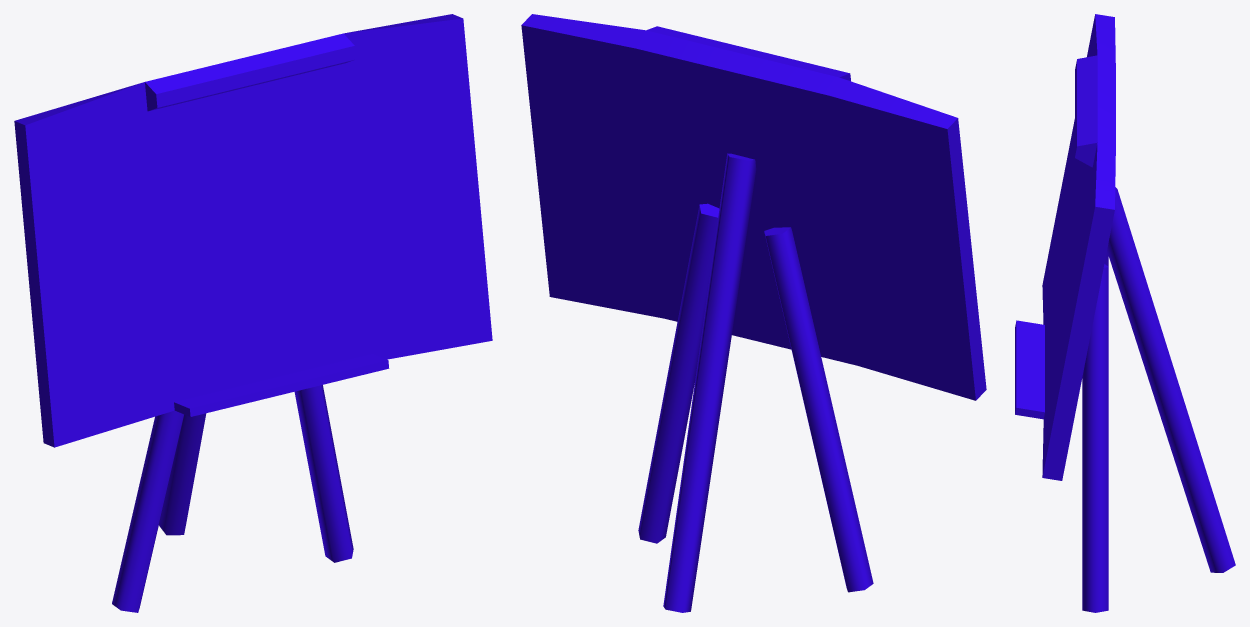
Rendered from office_pack_whiteboard_onLegs_2_meshCollider.fbx.
3 renders of one model, left to right at view 1: azimuth 30°, elevation 25°; view 2: azimuth 150°, elevation 25°; view 3: azimuth 270°, elevation 25°, orthographic. The views are drawn at different scales.
Parts seen in each view (by area): view 1: office_pack_whiteboard_onLegs_2_meshCollider; view 2: office_pack_whiteboard_onLegs_2_meshCollider; view 3: office_pack_whiteboard_onLegs_2_meshCollider.
Boxes of the visible parts, bbox=[...] form: office_pack_whiteboard_onLegs_2_meshCollider: bbox=[14, 14, 492, 612]; office_pack_whiteboard_onLegs_2_meshCollider: bbox=[521, 14, 986, 612]; office_pack_whiteboard_onLegs_2_meshCollider: bbox=[1015, 14, 1235, 612].
Size of the model in its own units: 91 by 104 by 44.06.
